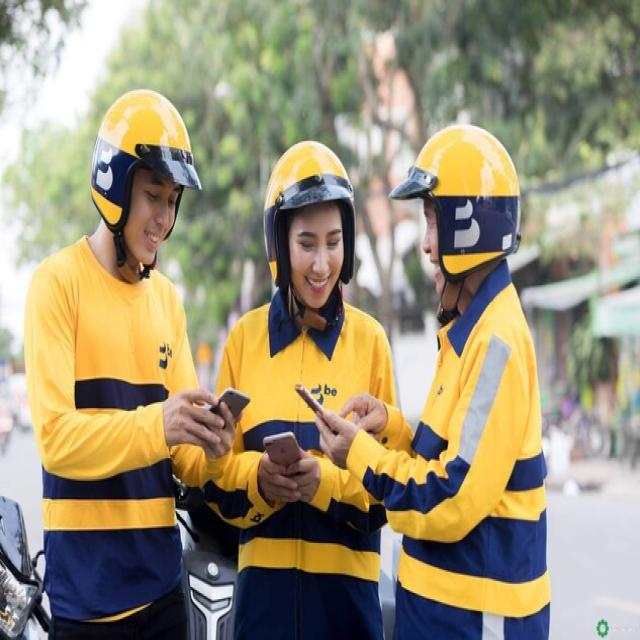3-4-helmet: (388, 124, 521, 281), (90, 89, 203, 231), (263, 140, 356, 290)
